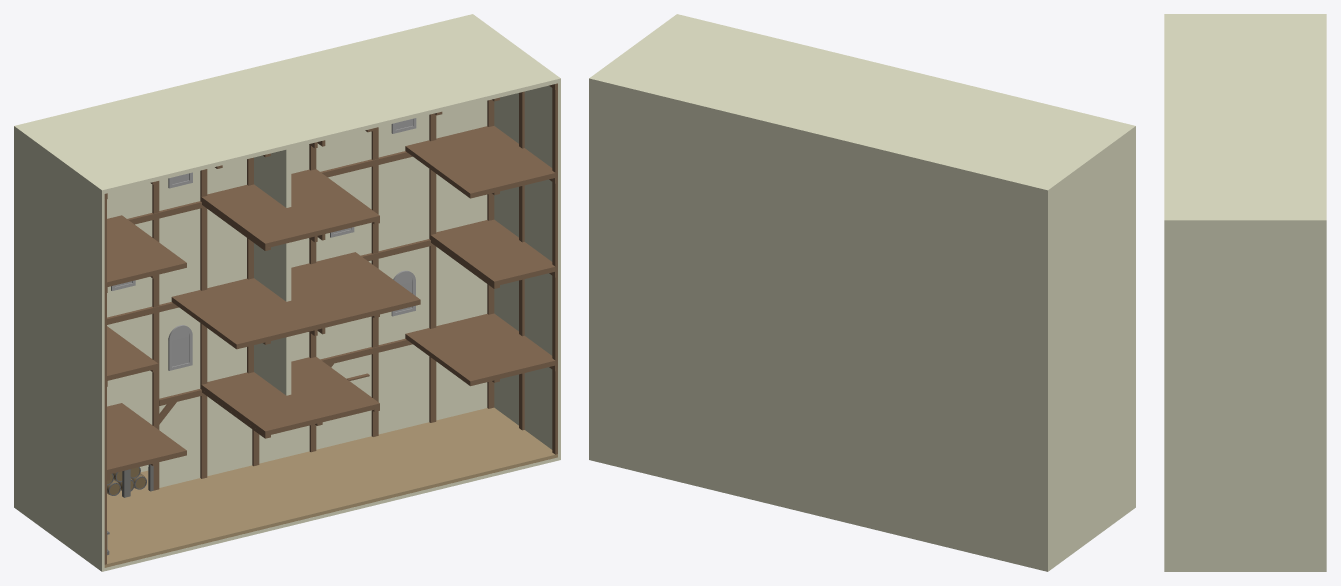
Rendered from tavern_building_v8.fbx.
3 views of the same model, side by side, from view 1: azimuth 30°, elevation 25°; view 2: azimuth 150°, elevation 25°; view 3: azimuth 270°, elevation 25° (orthographic). The views are drawn at different scales.
Parts seen in each view (by area): view 1: building, wall_back1, ground, wall_back2, platform4, platform6, platform, platform3, platform8, platform5, platform7, platform2 (+17 smaller); view 2: building; view 3: building.
Boxes of the visible parts, left/top/right/bottom form: building: left=14, top=14, right=560, bottom=571; wall_back1: left=107, top=100, right=487, bottom=406; ground: left=104, top=407, right=557, bottom=567; wall_back2: left=128, top=344, right=487, bottom=487; platform4: left=171, top=252, right=420, bottom=349; platform6: left=200, top=169, right=379, bottom=248; platform: left=200, top=357, right=379, bottom=436; platform3: left=405, top=313, right=557, bottom=386; platform8: left=405, top=126, right=557, bottom=198; platform5: left=429, top=219, right=557, bottom=286; platform7: left=104, top=215, right=186, bottom=287; platform2: left=104, top=403, right=186, bottom=475; building: left=589, top=14, right=1135, bottom=571; building: left=1164, top=14, right=1326, bottom=571.
Bounding box in the file's own units: 198 × 157 × 65.81.
